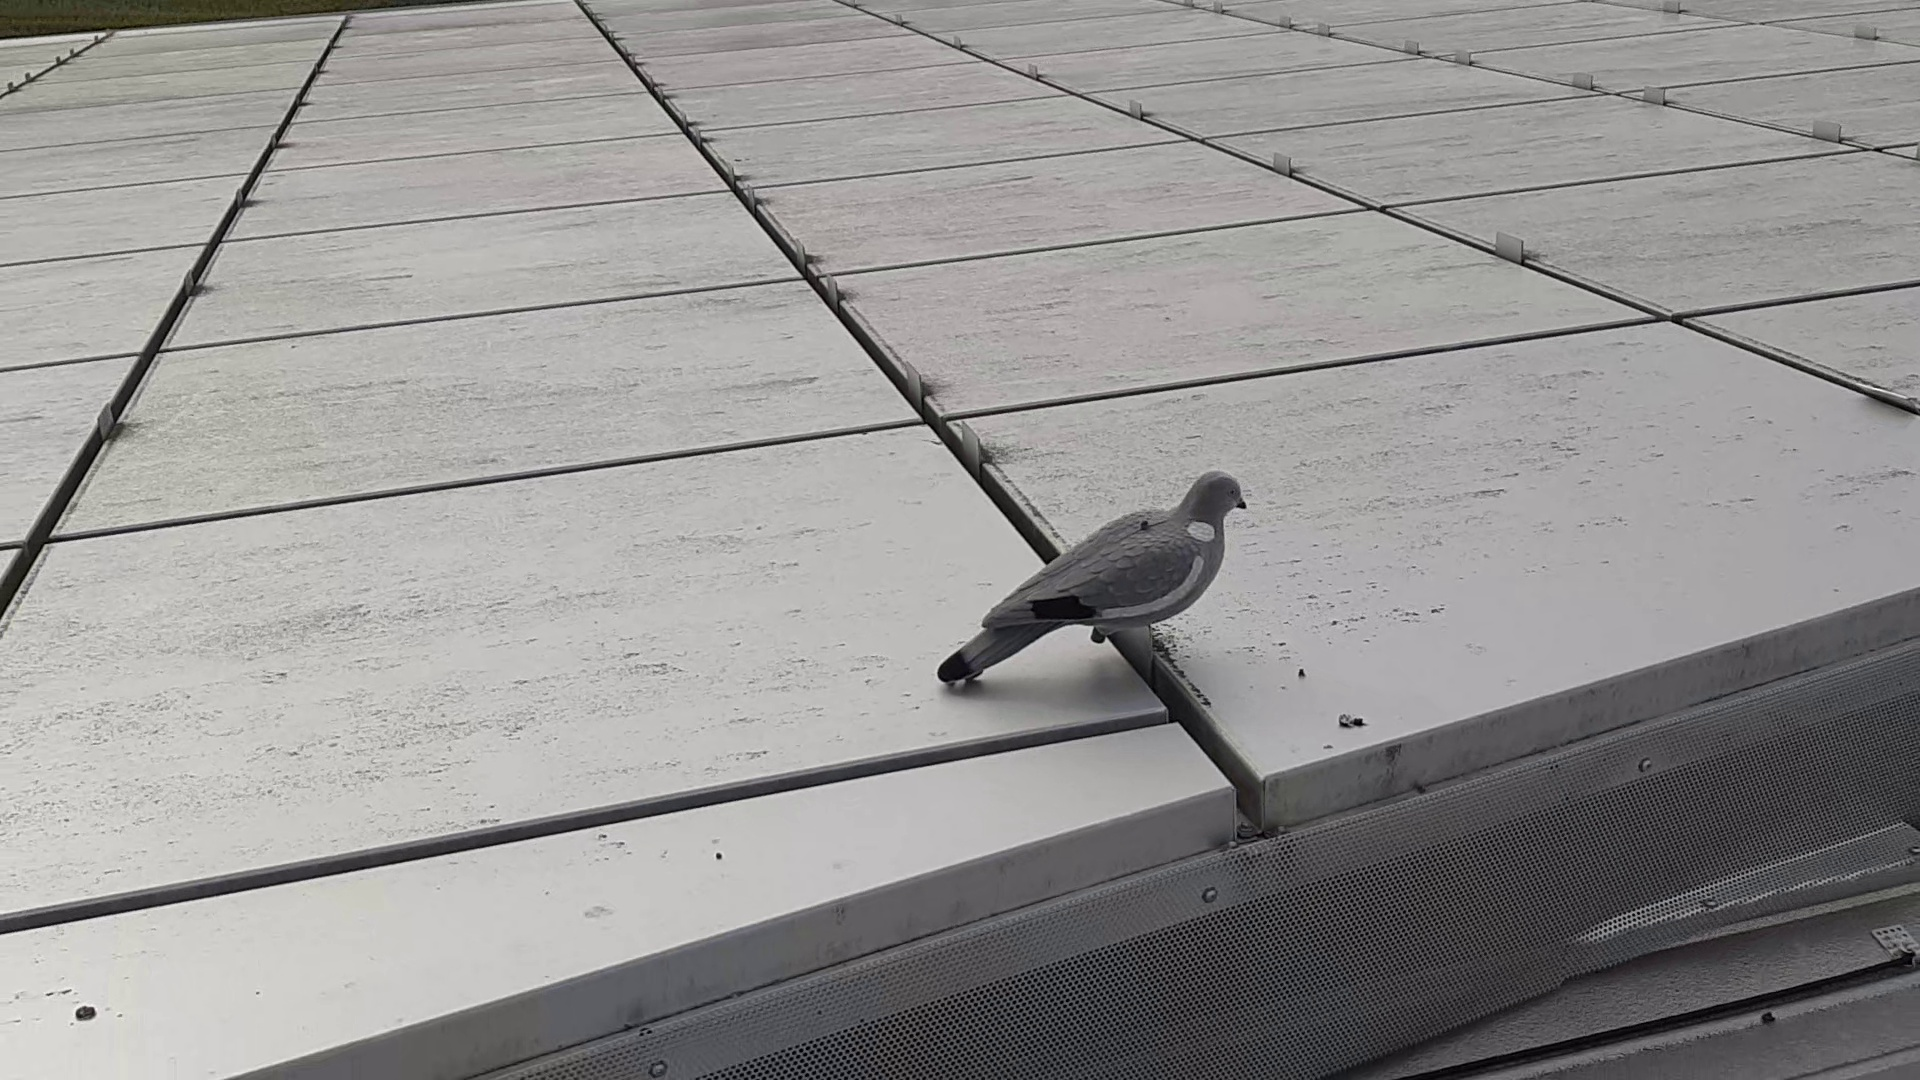Pigeon: (920, 446, 1261, 731)
